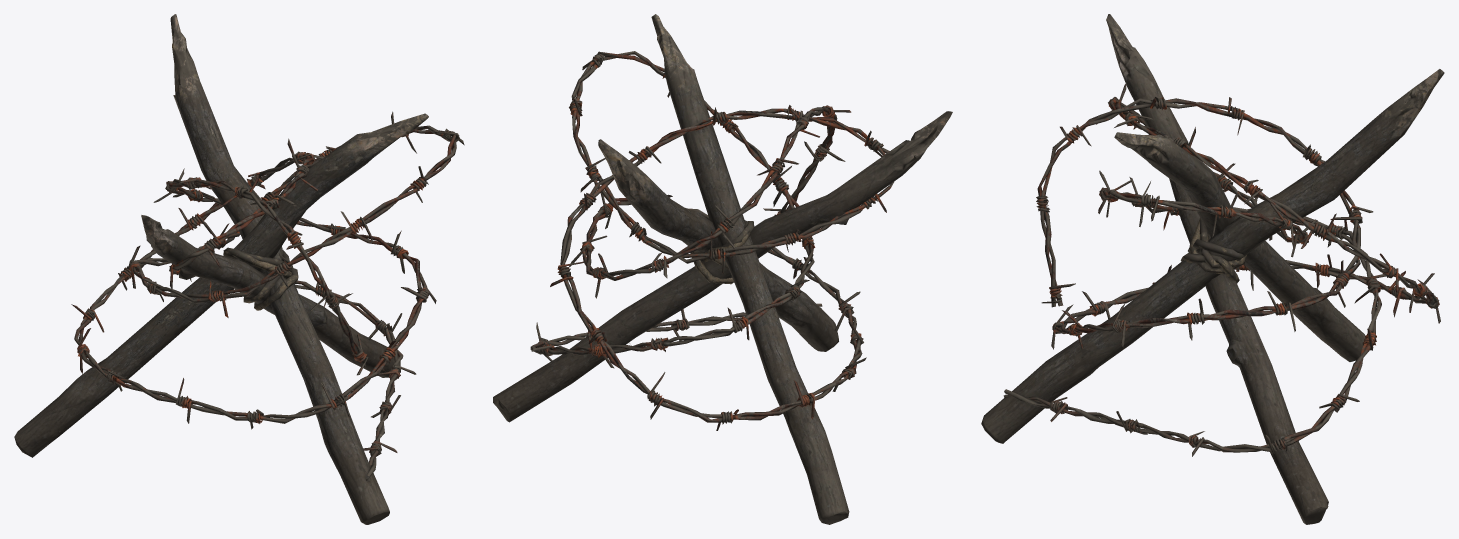
The model's file is SM_BarbedWire02.glb.
The picture shows the model from 3 angles, left to right: view 1: azimuth 30°, elevation 25°; view 2: azimuth 150°, elevation 25°; view 3: azimuth 270°, elevation 25°; orthographic projection. The views are drawn at different scales.
Parts seen in each view (by area): view 1: SM_BarbedWire02; view 2: SM_BarbedWire02; view 3: SM_BarbedWire02.
Boxes of the visible parts, x1=… form: SM_BarbedWire02: x1=14, y1=14, x2=464, y2=524; SM_BarbedWire02: x1=493, y1=14, x2=952, y2=524; SM_BarbedWire02: x1=981, y1=14, x2=1444, y2=524.
Bounding box in the file's own units: 1.28 × 1.23 × 1.33.
Materials: 1 (1 with a texture image).
